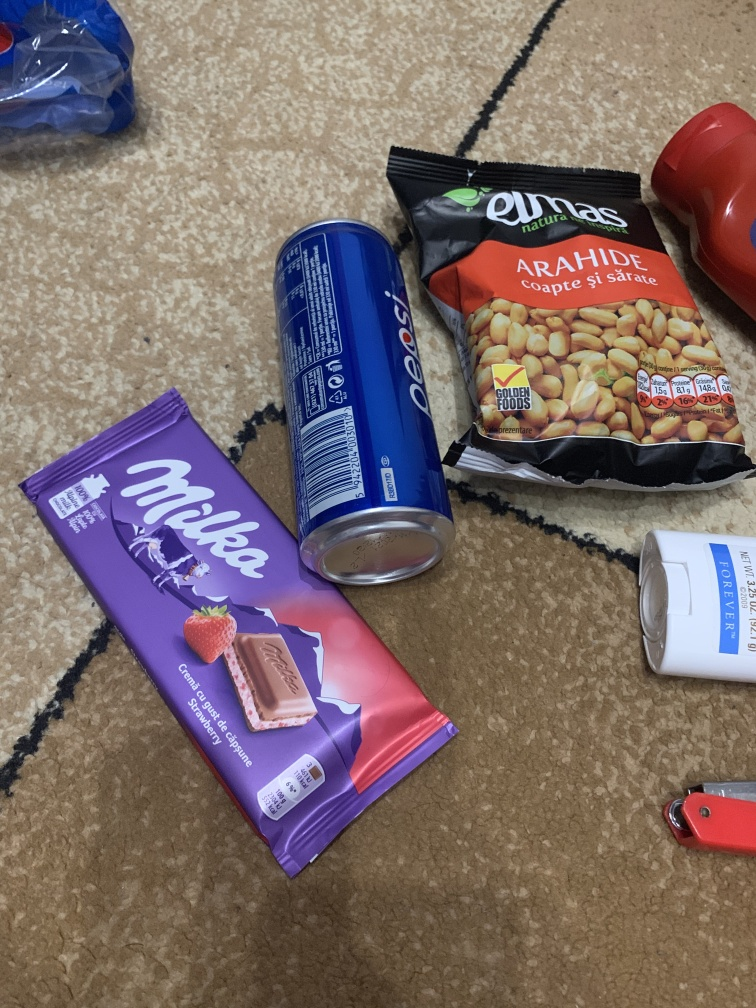ketchup: (647, 100, 756, 325)
milka: (24, 386, 454, 882)
pepsi: (384, 139, 753, 502), (272, 218, 455, 588)
